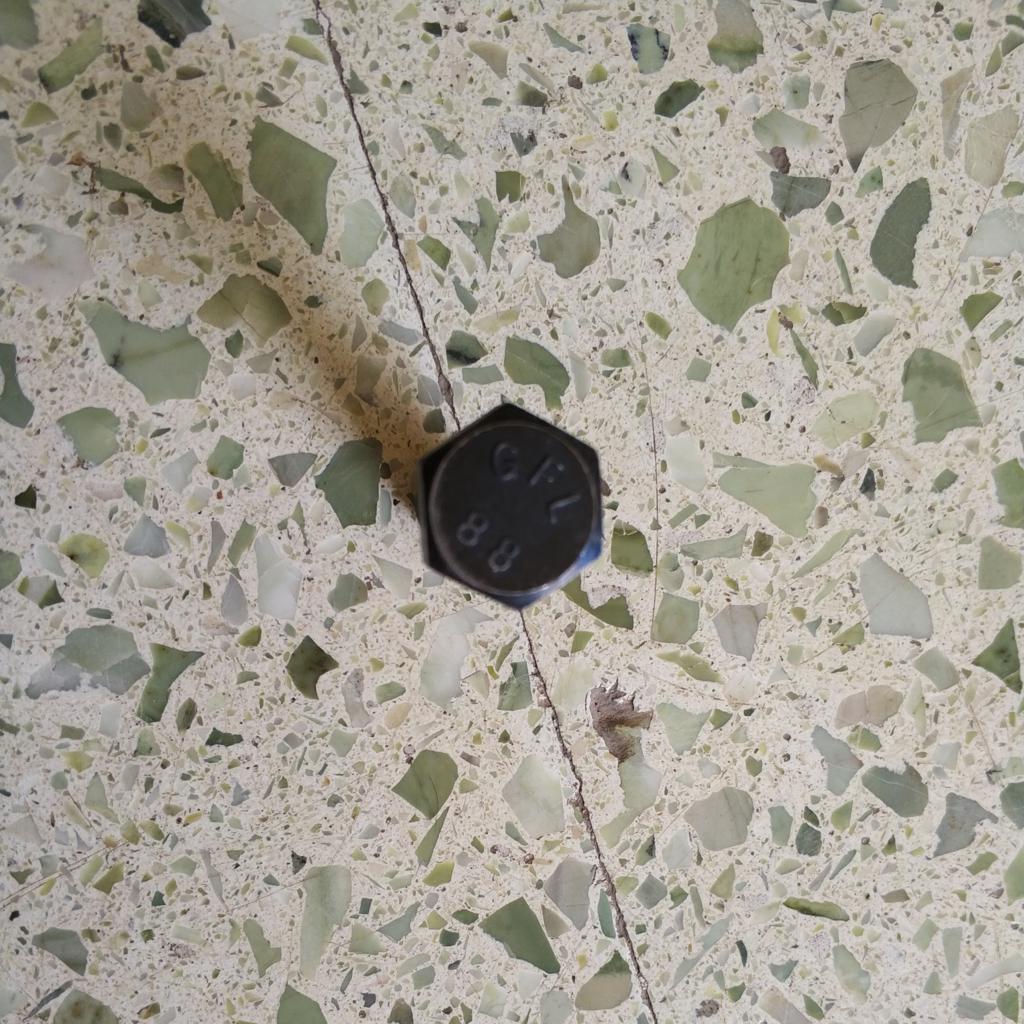screwtype2black: (407, 394, 617, 614)
